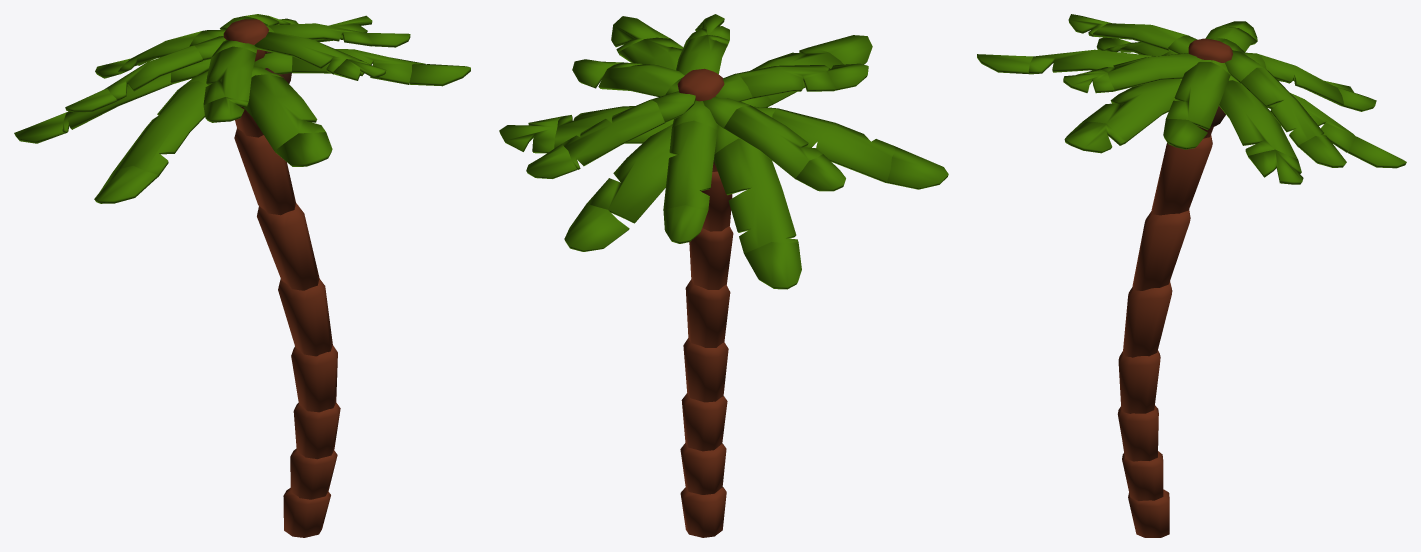
Rendered from palm_asset.fbx.
The picture shows the model from 3 angles, left to right: view 1: azimuth 30°, elevation 25°; view 2: azimuth 150°, elevation 25°; view 3: azimuth 270°, elevation 25°; orthographic projection. The views are drawn at different scales.
Parts seen in each view (by area): view 1: Palmleafs, Palmtrunk; view 2: Palmleafs, Palmtrunk; view 3: Palmleafs, Palmtrunk.
Boxes of the visible parts, x1,y1,x2,y2 form: Palmleafs: (14,14,470,203); Palmtrunk: (223,19,340,537); Palmleafs: (499,14,948,289); Palmtrunk: (677,68,733,537); Palmleafs: (977,14,1406,184); Palmtrunk: (1117,38,1232,537).
Size of the model in its own units: 16.88 by 21.85 by 17.91.
